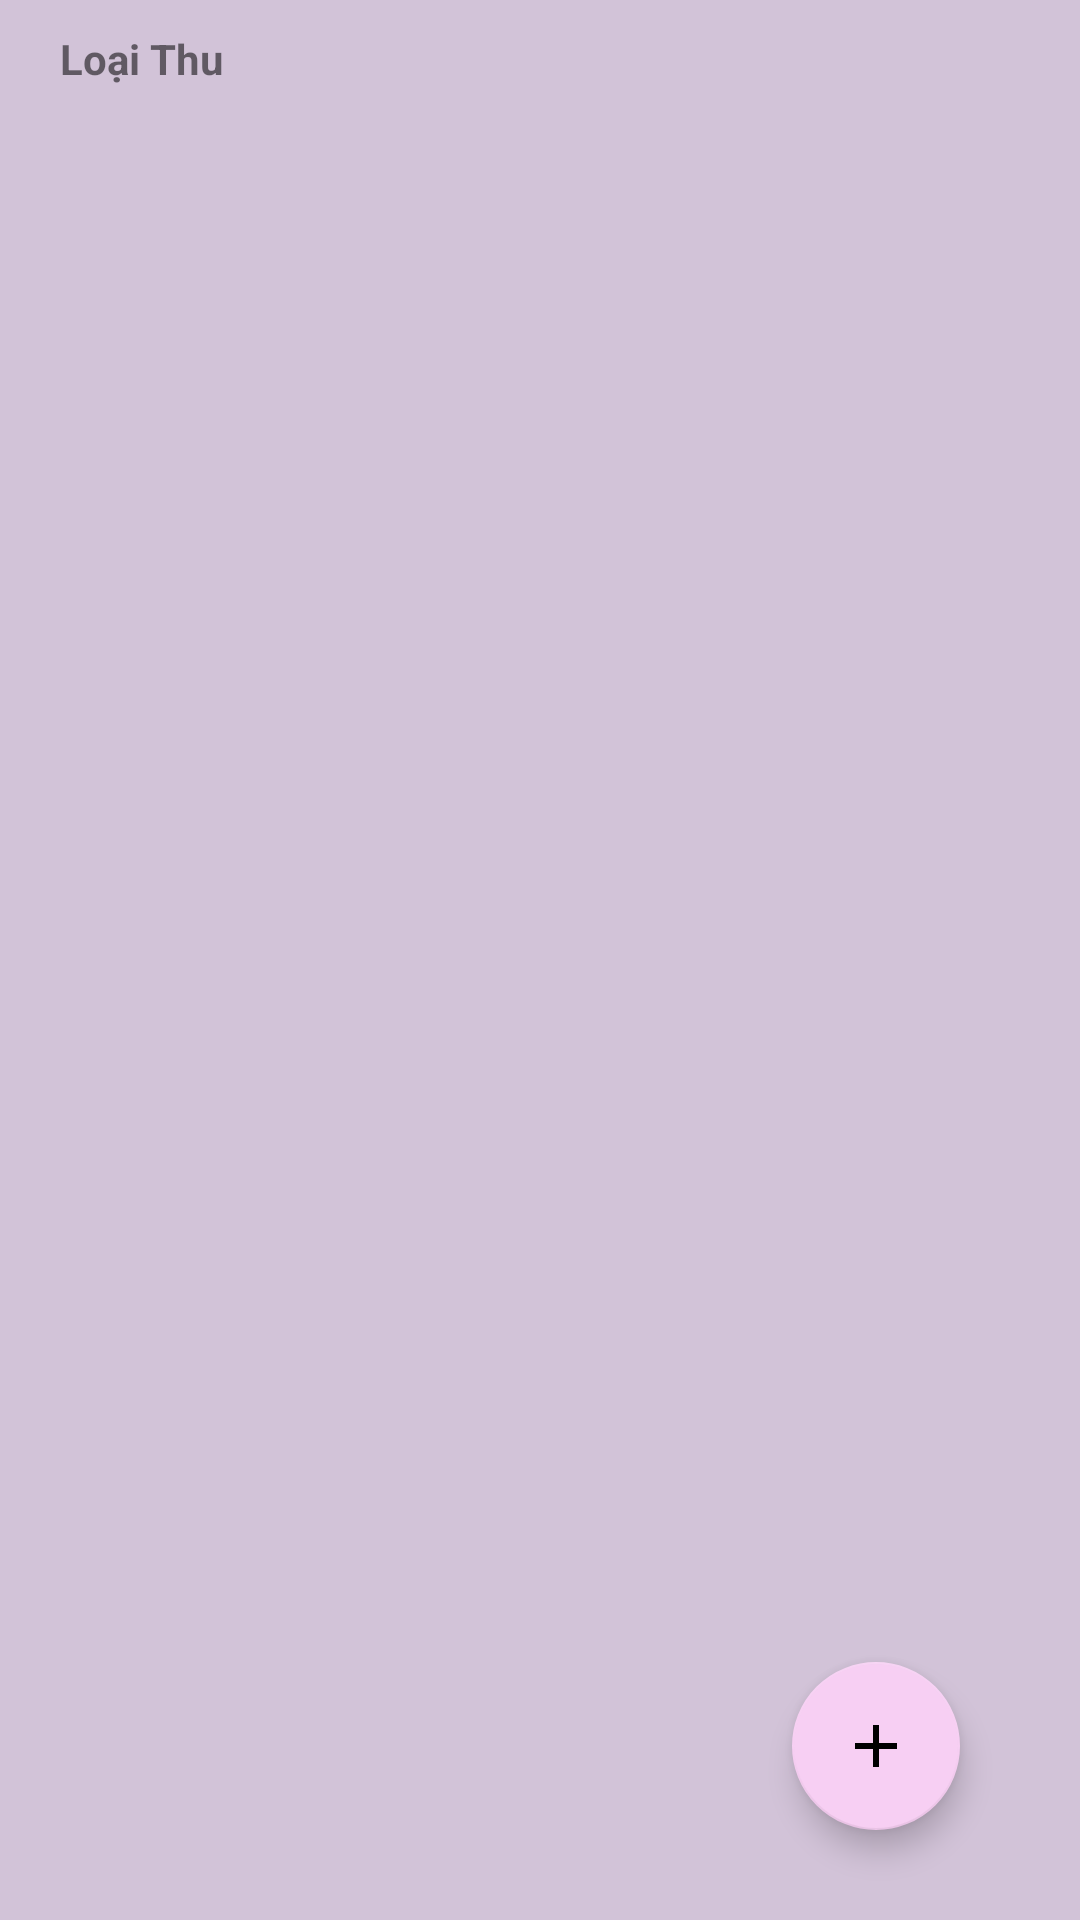

Where to tap for icons on this 1080 x 1920 app screen, as (x=x, y=y):
add: (x=876, y=1746)
